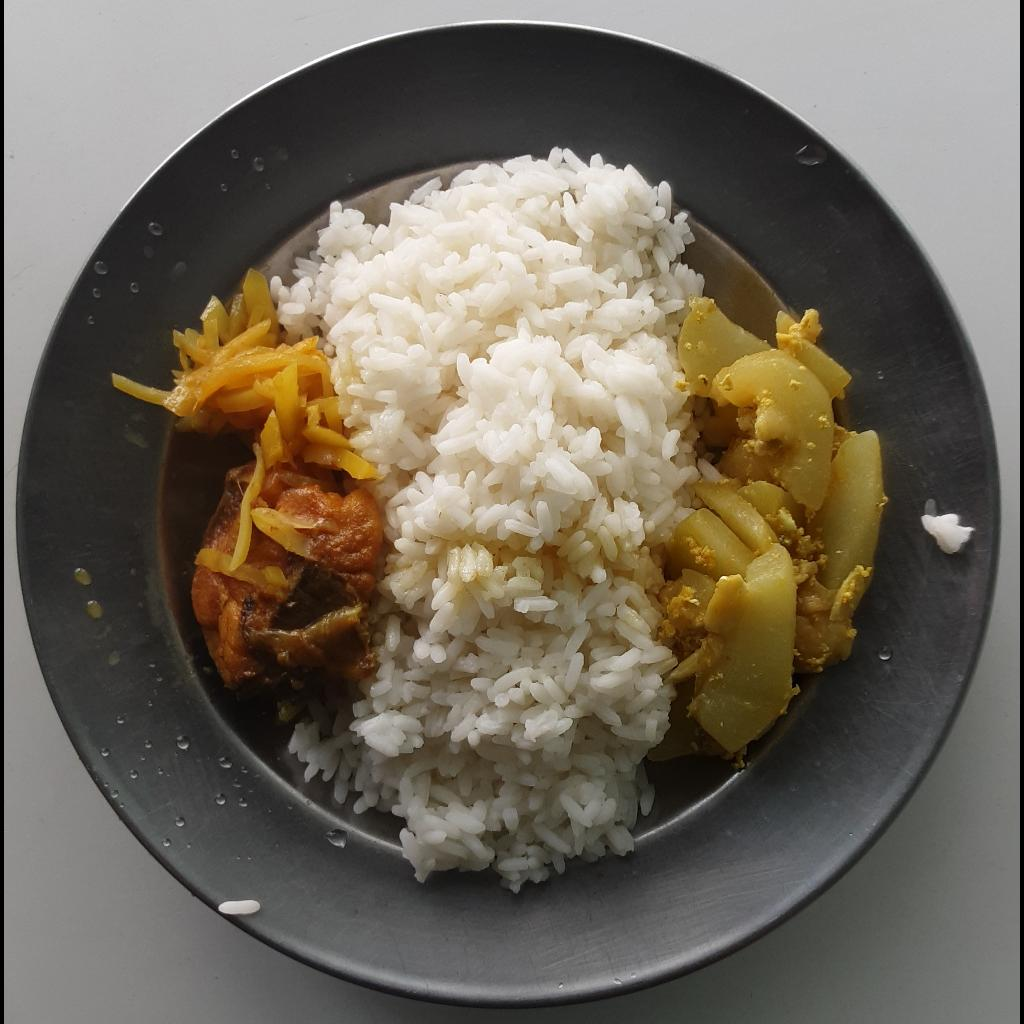fish: (191, 463, 387, 700)
papaya: (649, 299, 887, 761)
potato: (106, 264, 374, 602)
rice: (266, 144, 705, 893)
